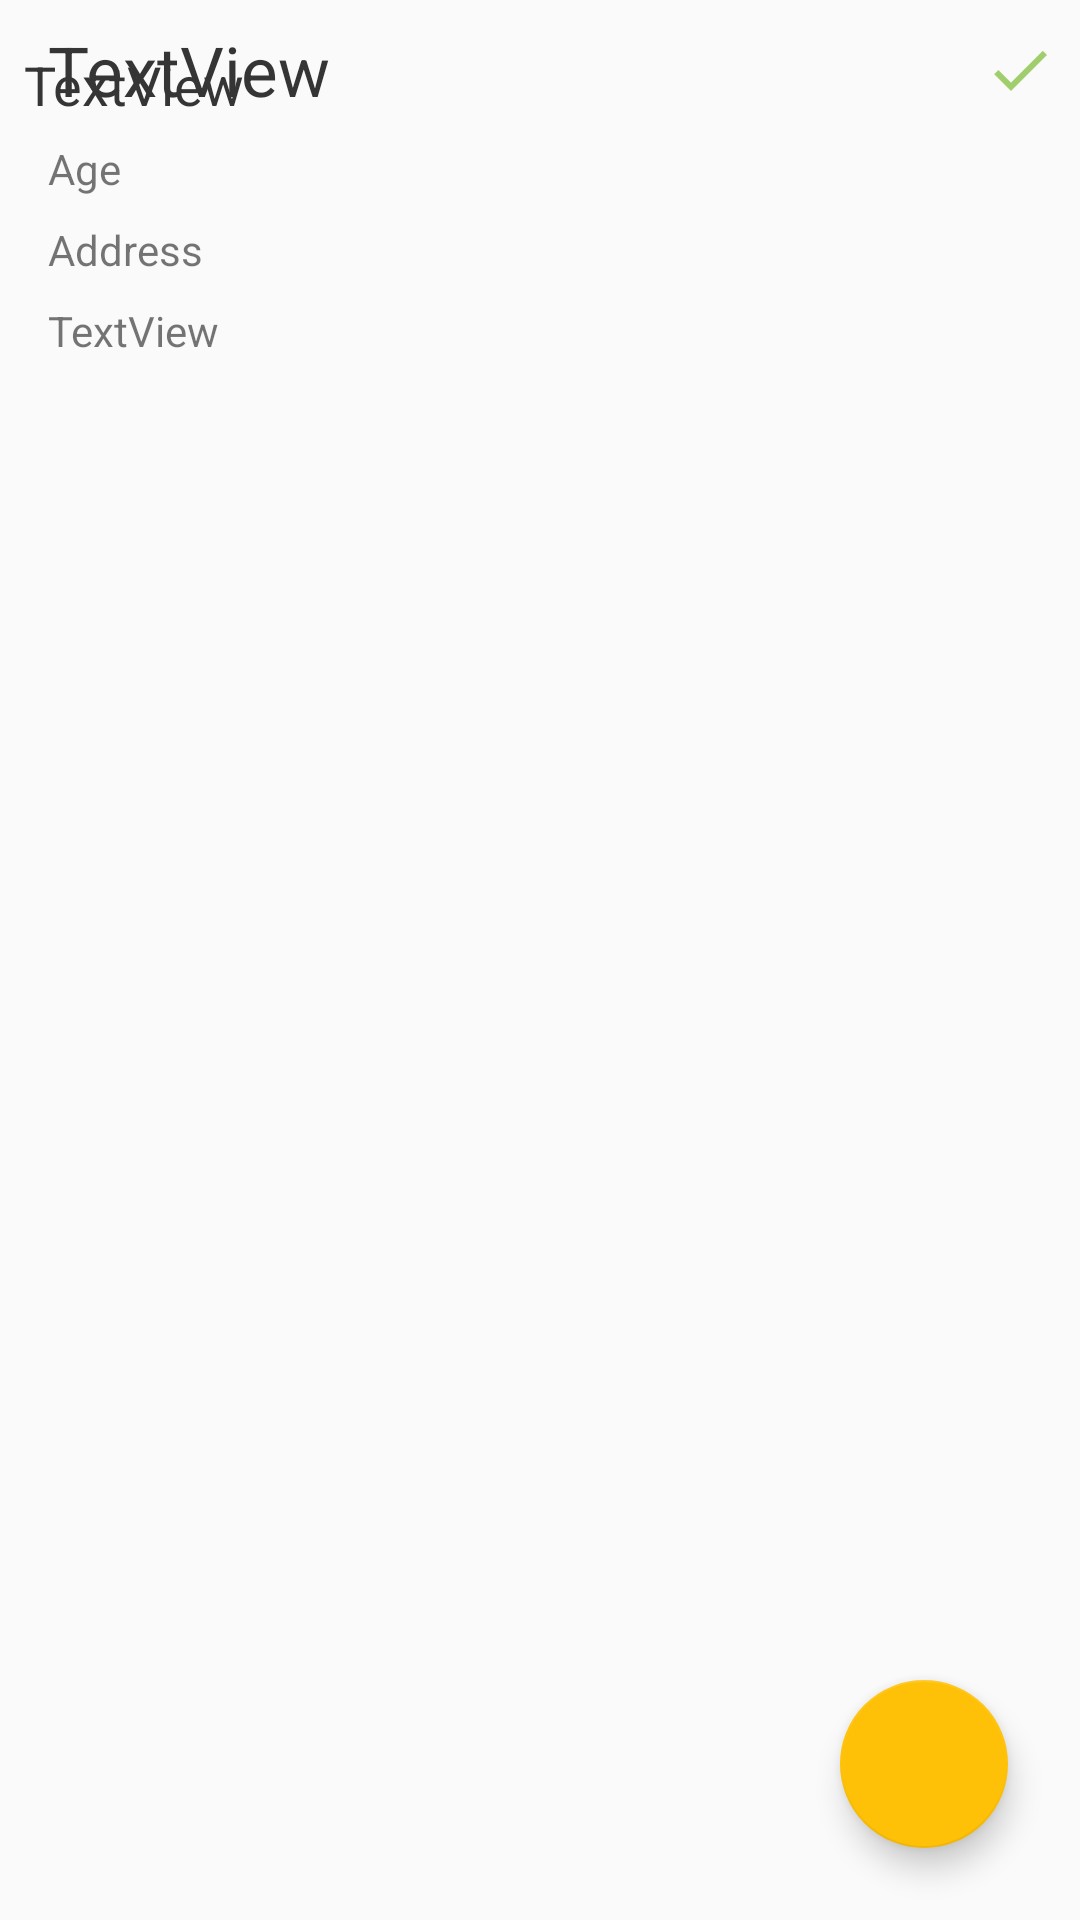

Icon bounding boxes for this 1080*1920 phone screenshot, format (x1, y1, x2, y2):
verified: (994, 51, 1047, 91)
